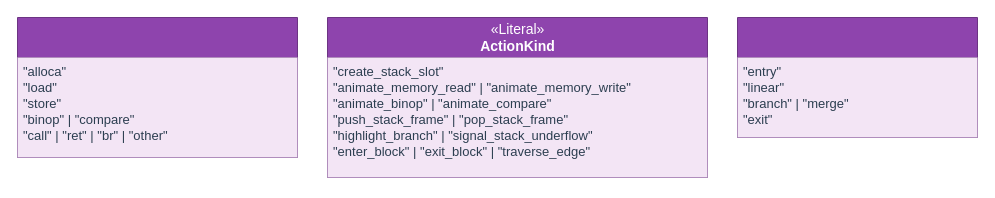
Image size: 995x198. Some labels were removed from this diagram. Here are the shapes that lost their labels. From the top down, the box of each, then its label:
(16, 16, 298, 158): «Literal» EventKind
(736, 16, 978, 138): «Literal» BlockRole
